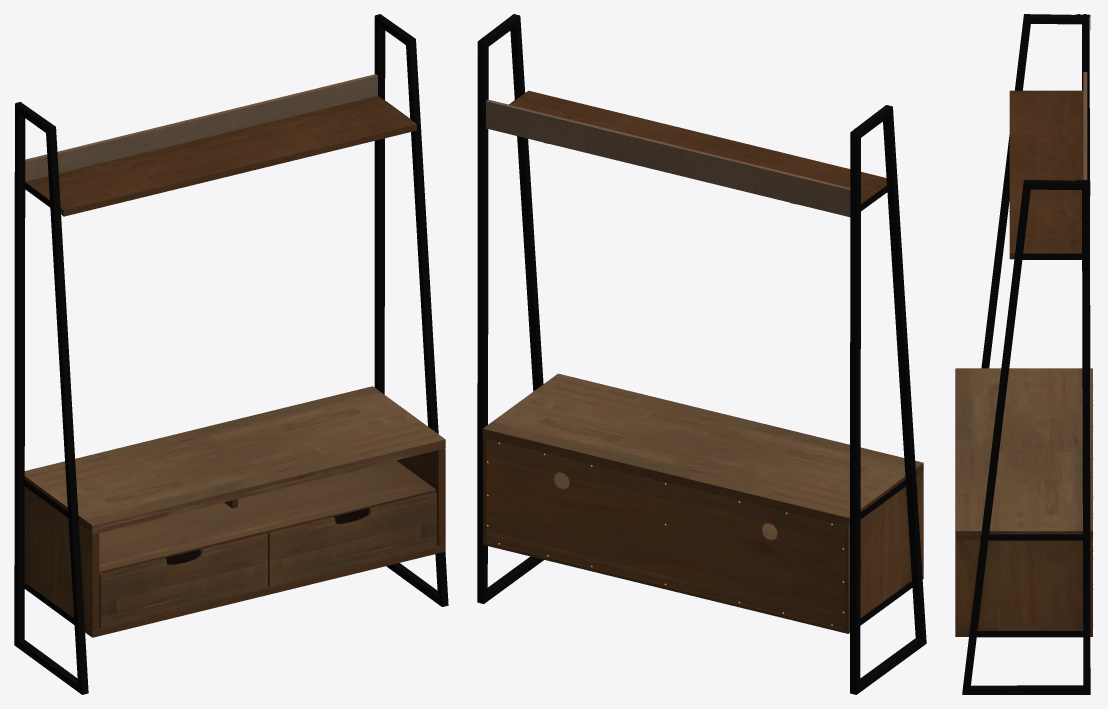
File: abo-B07HSCNKDC.glb
3 renders of one model, left to right at view 1: azimuth 30°, elevation 25°; view 2: azimuth 150°, elevation 25°; view 3: azimuth 270°, elevation 25°, orthographic. The views are drawn at different scales.
Size of the model in its own units: 1.25 by 1.77 by 0.432.
1 material, 1 textured.
